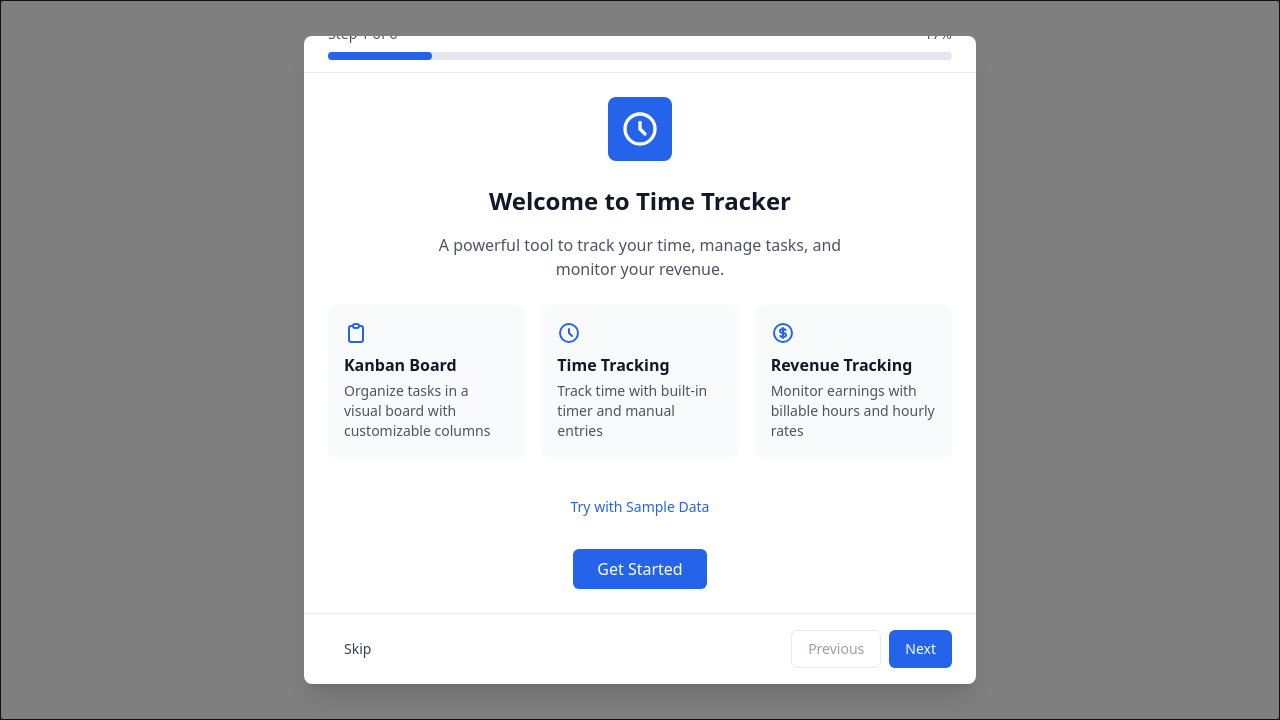
Test case: OnboardingWizard › navigation › moves to next step when Next button clicked
(page scrolled)
Click the button with aria-label "Next step".
click(921, 649)  # box left=889, top=630, right=952, bottom=668
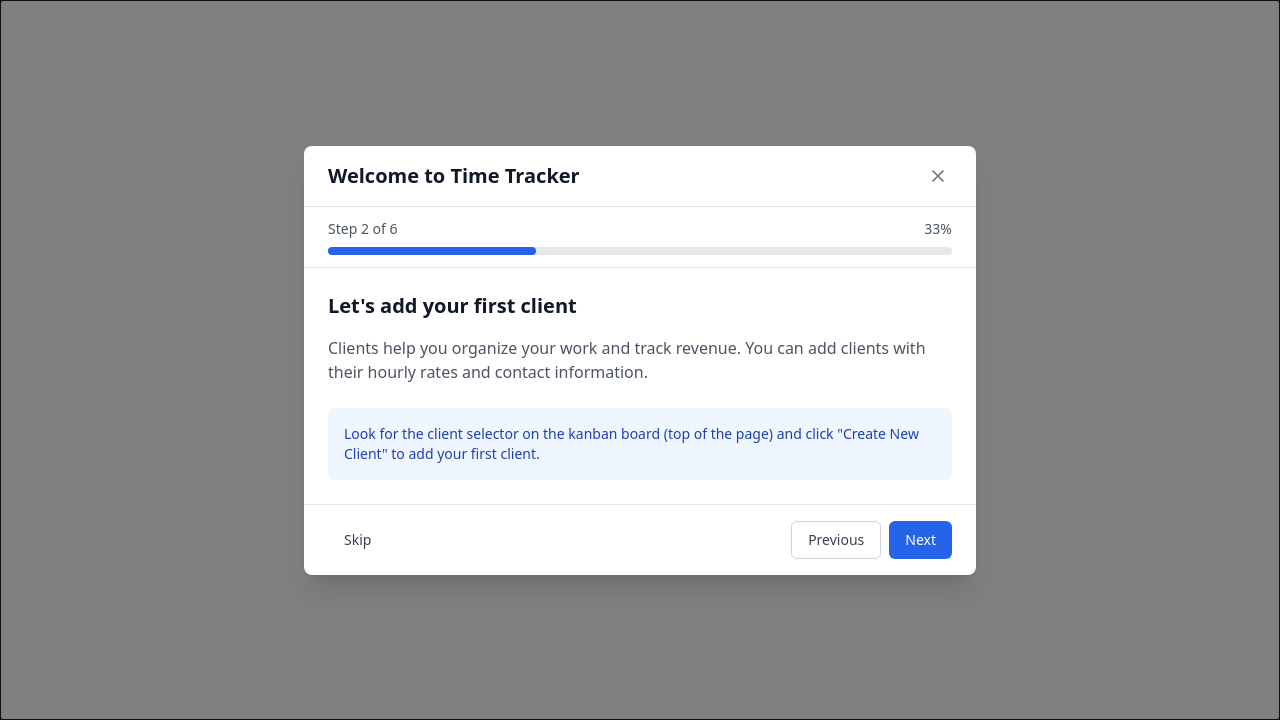
Check: the heading "Let's add your first client" is shown, box left=328, top=292, right=577, bottom=318
